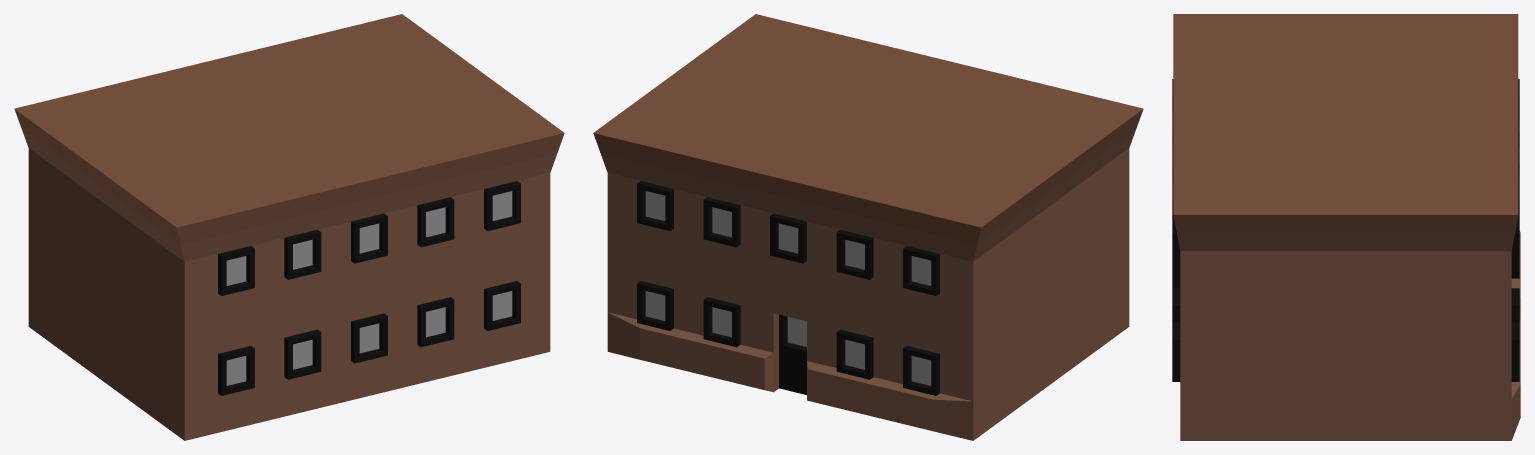
The model's file is apartmentA.fbx.
3 renders of one model, left to right at view 1: azimuth 30°, elevation 25°; view 2: azimuth 150°, elevation 25°; view 3: azimuth 270°, elevation 25°, orthographic. The views are drawn at different scales.
Visible parts, largest first — view 1: ApartmentA; view 2: ApartmentA; view 3: ApartmentA.
Boxes of the visible parts, <box> form: ApartmentA: <box>14,14,564,440</box>; ApartmentA: <box>593,14,1143,440</box>; ApartmentA: <box>1172,14,1520,440</box>.
Size of the model in its own units: 1909 by 1027 by 1398.
